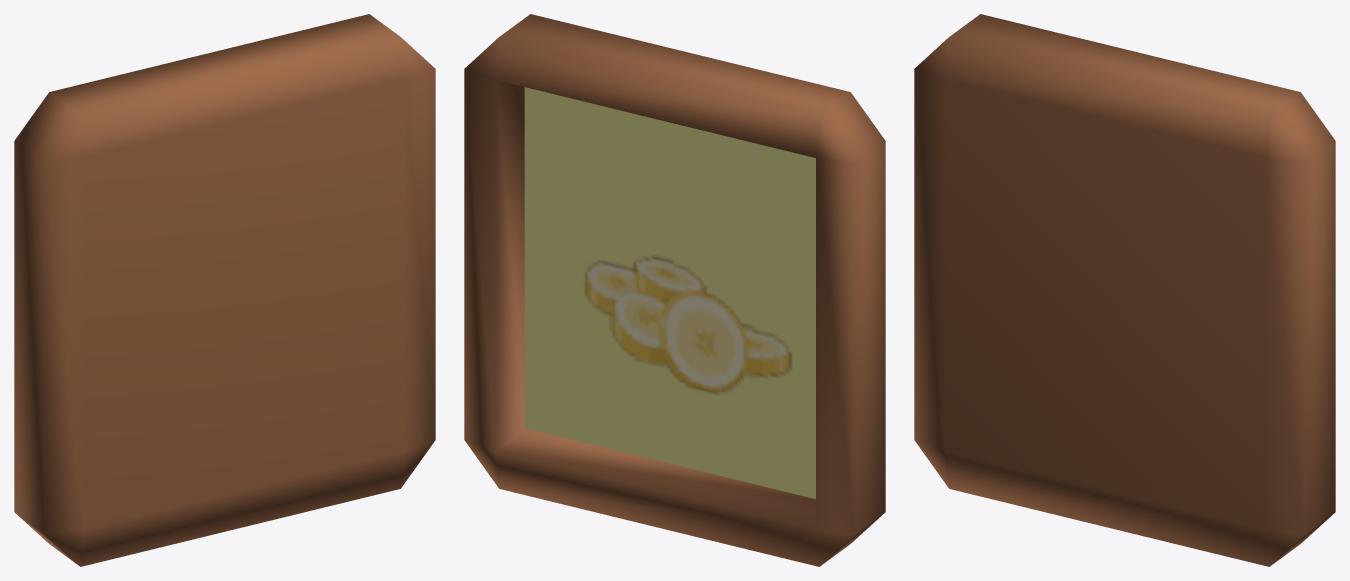
Rendered from pic_2.fbx.
3 renders of one model, left to right at view 1: azimuth 30°, elevation 25°; view 2: azimuth 150°, elevation 25°; view 3: azimuth 330°, elevation 25°, orthographic.
Parts seen in each view (by area): view 1: Cube.077; view 2: Cube.077; view 3: Cube.077.
Part boxes in pixels (left/top/right/bottom): Cube.077: left=14, top=14, right=435, bottom=566; Cube.077: left=464, top=14, right=885, bottom=566; Cube.077: left=914, top=14, right=1335, bottom=566.
Size of the model in its own units: 64.39 by 71.25 by 10.94.
